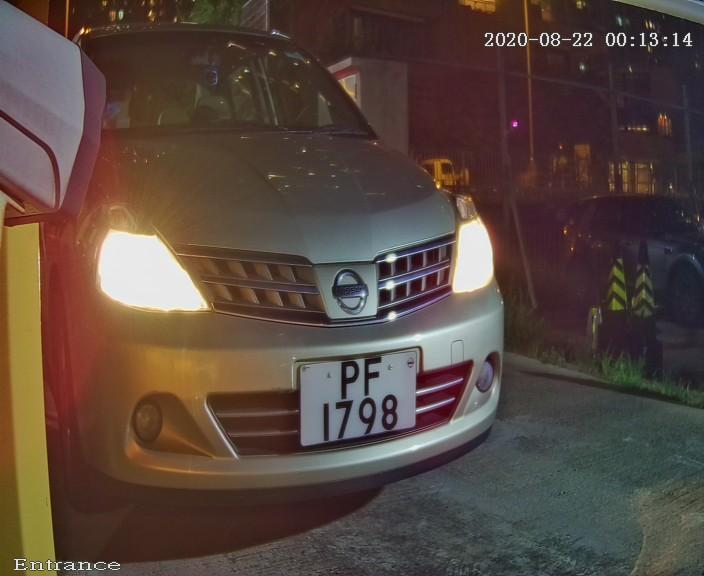Car: (16, 19, 557, 551)
License Plate: (290, 337, 428, 458)
